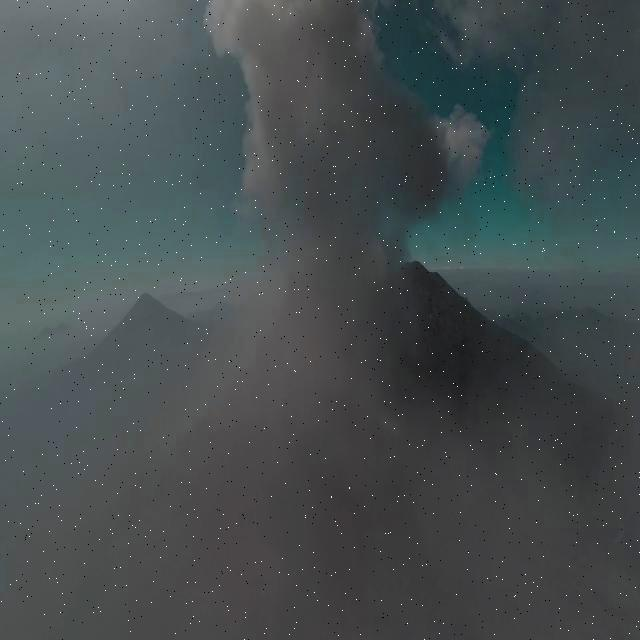Plume: (5, 263, 537, 640), (204, 0, 488, 271), (501, 0, 640, 220)
